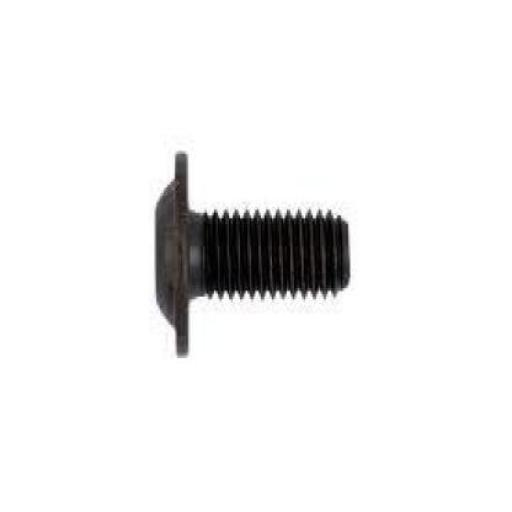Bolt: (153, 151, 352, 359)
